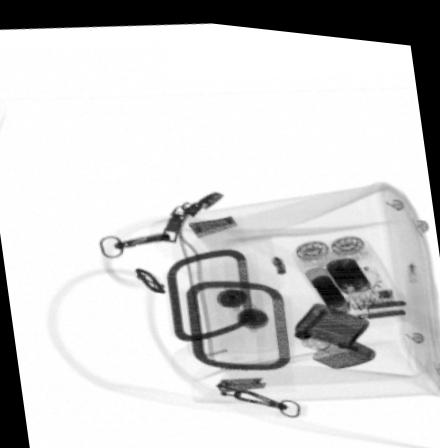Lighter: (292, 294, 376, 362)
